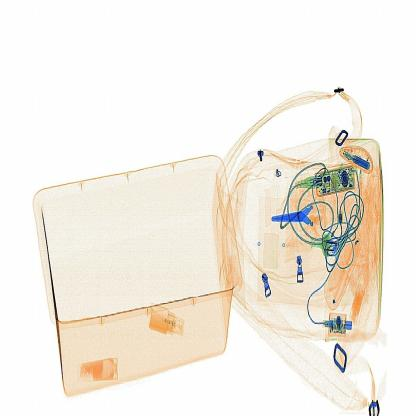gun: (268, 189, 330, 246)
